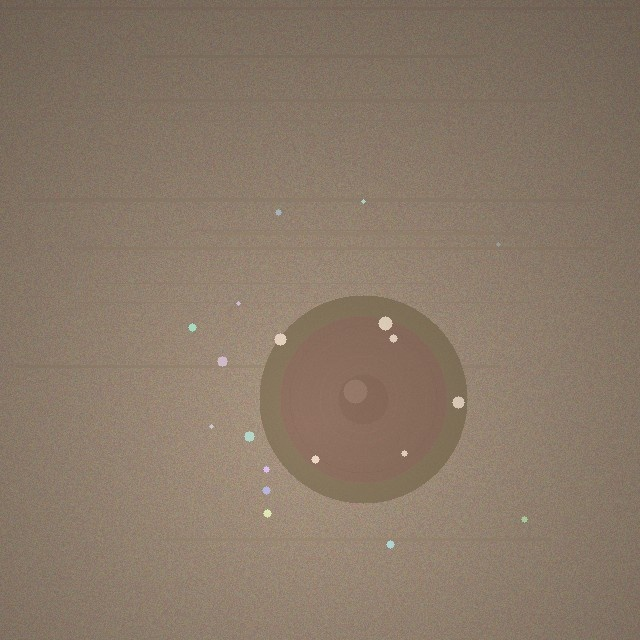overburn: (259, 295, 467, 503)
